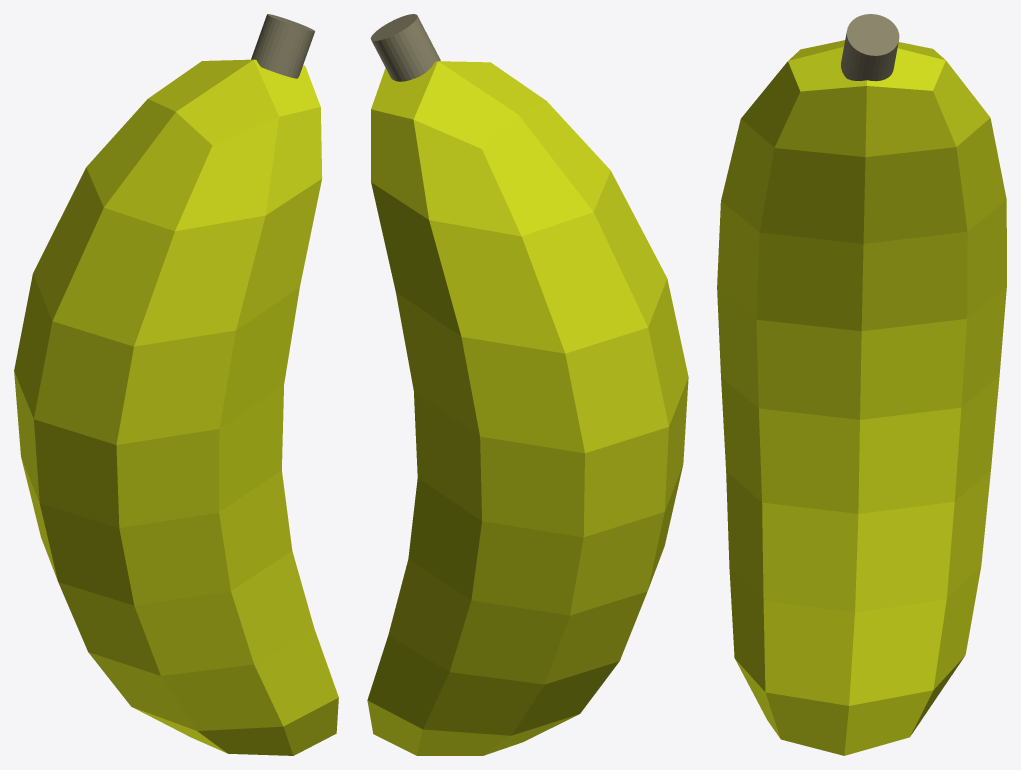
The model's file is Platano.fbx.
3 views of the same model, side by side, from view 1: azimuth 30°, elevation 25°; view 2: azimuth 150°, elevation 25°; view 3: azimuth 270°, elevation 25° (orthographic). The views are drawn at different scales.
Visible parts, largest first — view 1: Cube; view 2: Cube; view 3: Cube.
Part boxes in pixels (x1=…): Cube: x1=14, y1=14, x2=338, y2=755; Cube: x1=367, y1=14, x2=688, y2=755; Cube: x1=717, y1=14, x2=1006, y2=755.
Size of the model in its own units: 276 by 654 by 234.
